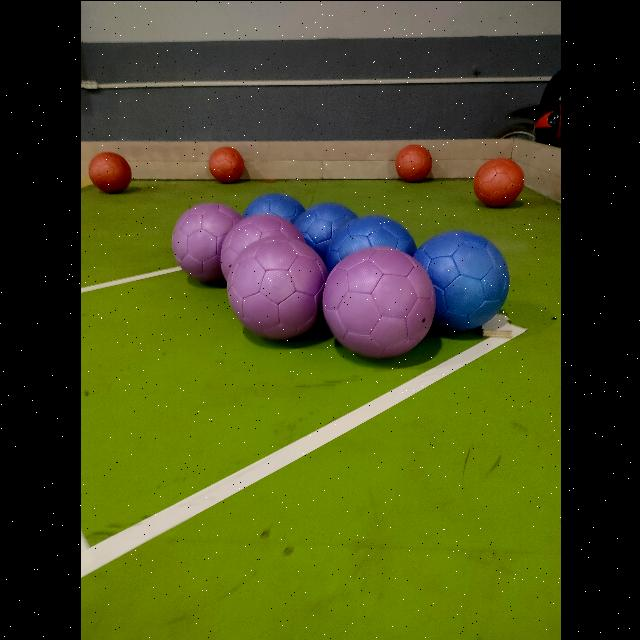B: (414, 230, 508, 330), (323, 214, 415, 290), (293, 202, 362, 266), (244, 192, 308, 250)
P: (322, 246, 434, 356), (227, 236, 327, 338), (214, 218, 306, 290), (172, 201, 250, 283)
R: (473, 157, 523, 205), (88, 151, 130, 191), (394, 144, 432, 180), (208, 145, 244, 181)
